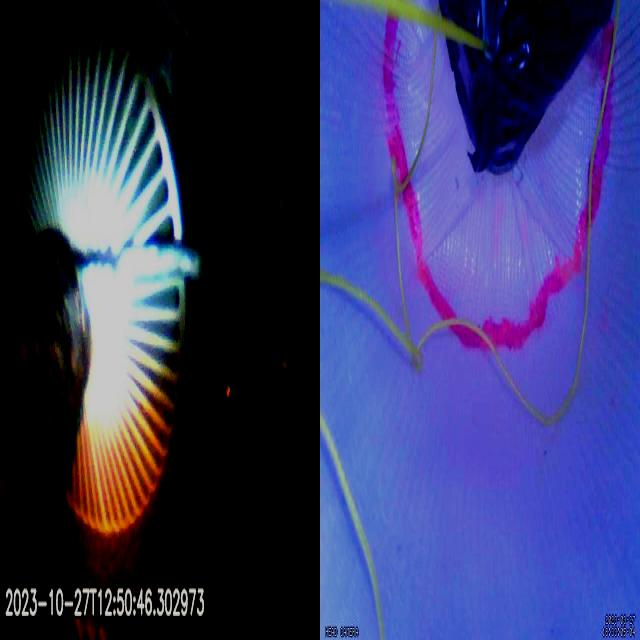red-circle: (382, 12, 616, 353)
